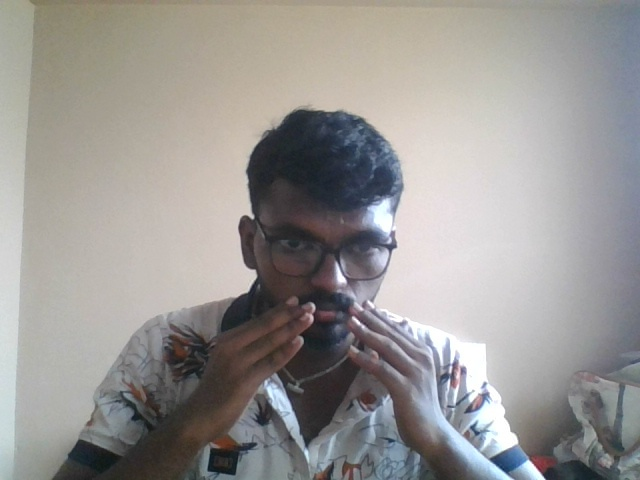Thank you: (179, 277, 465, 472)
